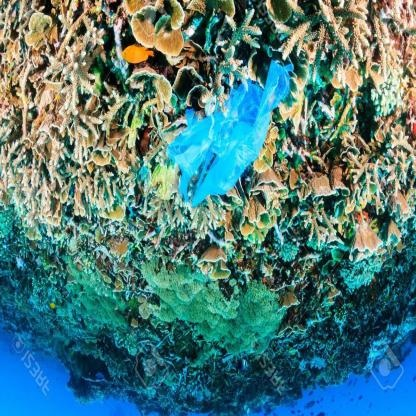pbag: (163, 57, 297, 208)
